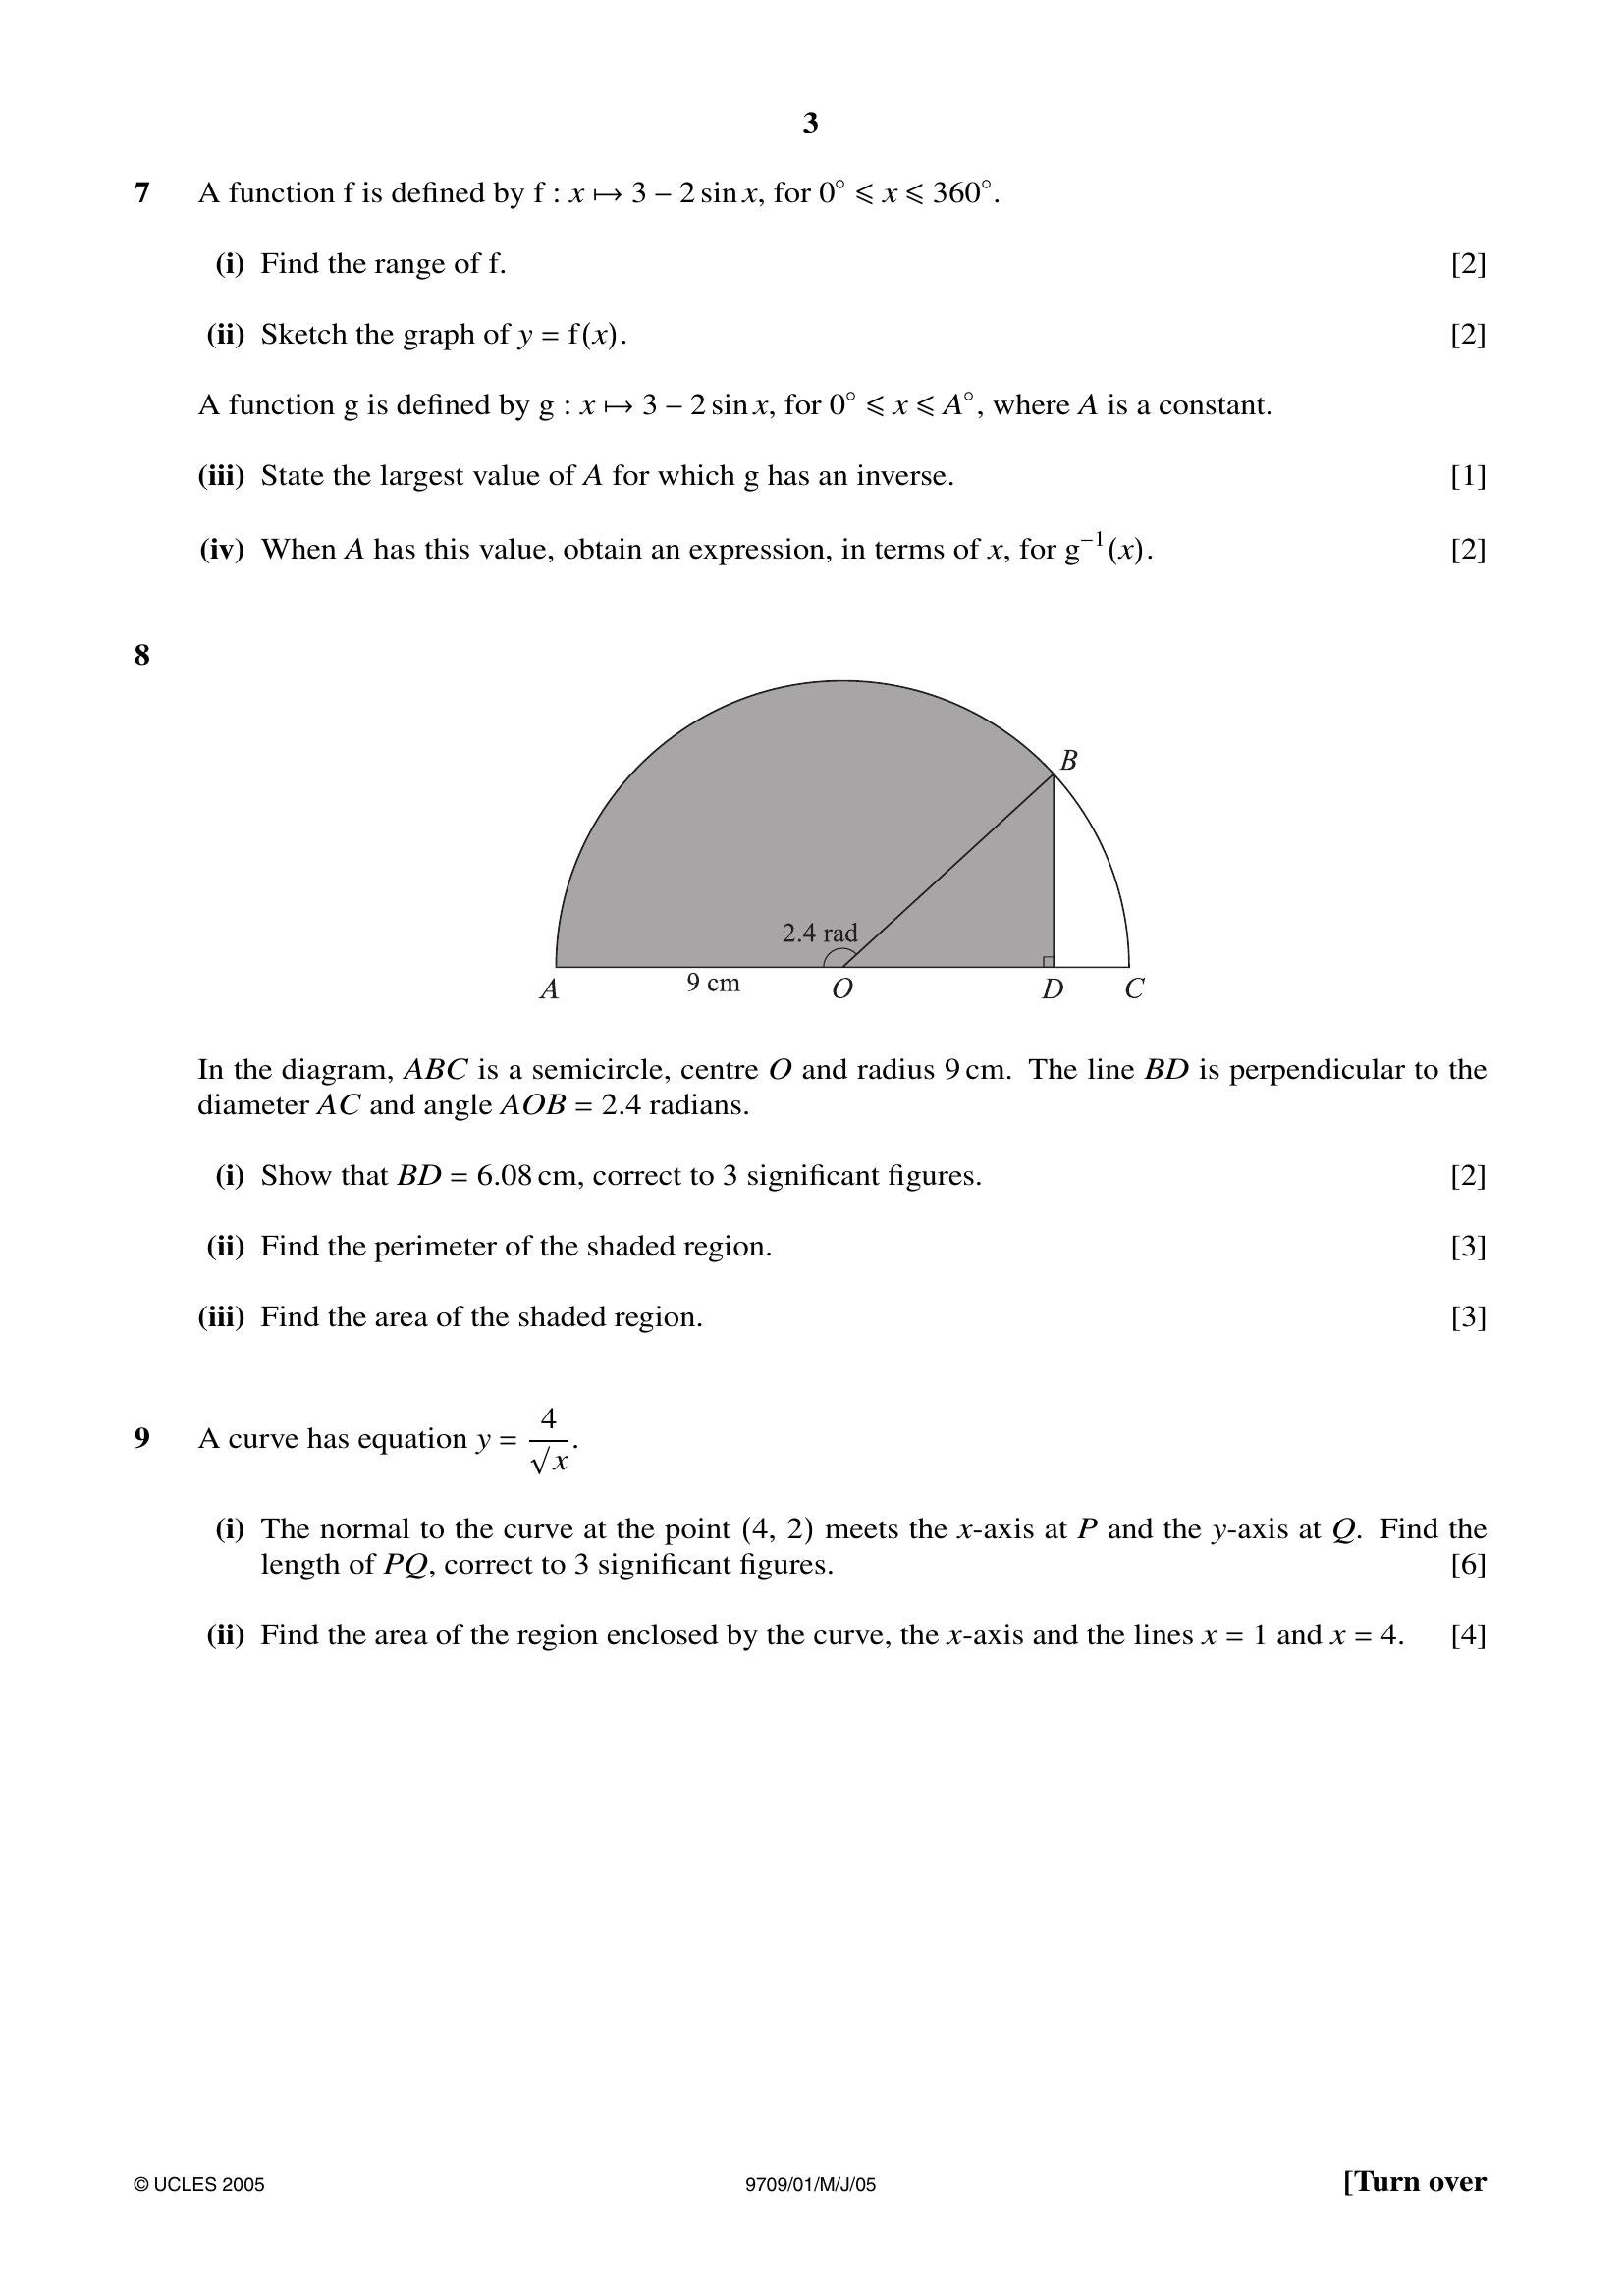question: (2, 616, 1623, 1373), (2, 151, 1621, 590), (2, 1399, 1621, 1826)
